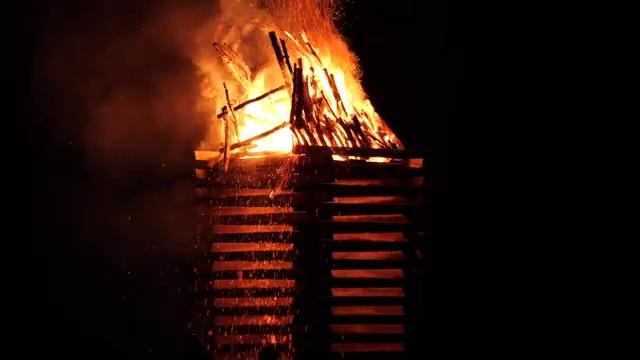fire: (242, 98, 291, 149), (314, 57, 355, 106)
